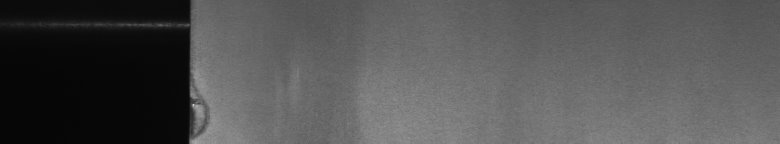hb: (200, 92, 216, 136)
